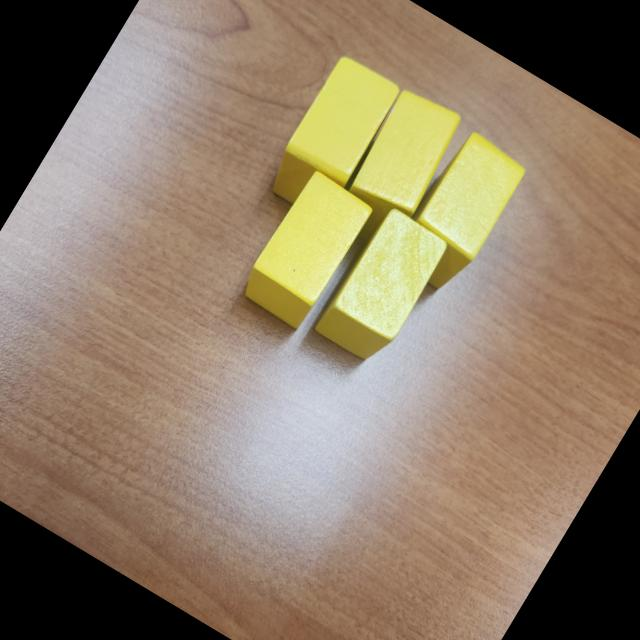yellow: (323, 81, 471, 258), (386, 127, 531, 299), (260, 52, 404, 225), (312, 203, 454, 370), (236, 168, 376, 333)
